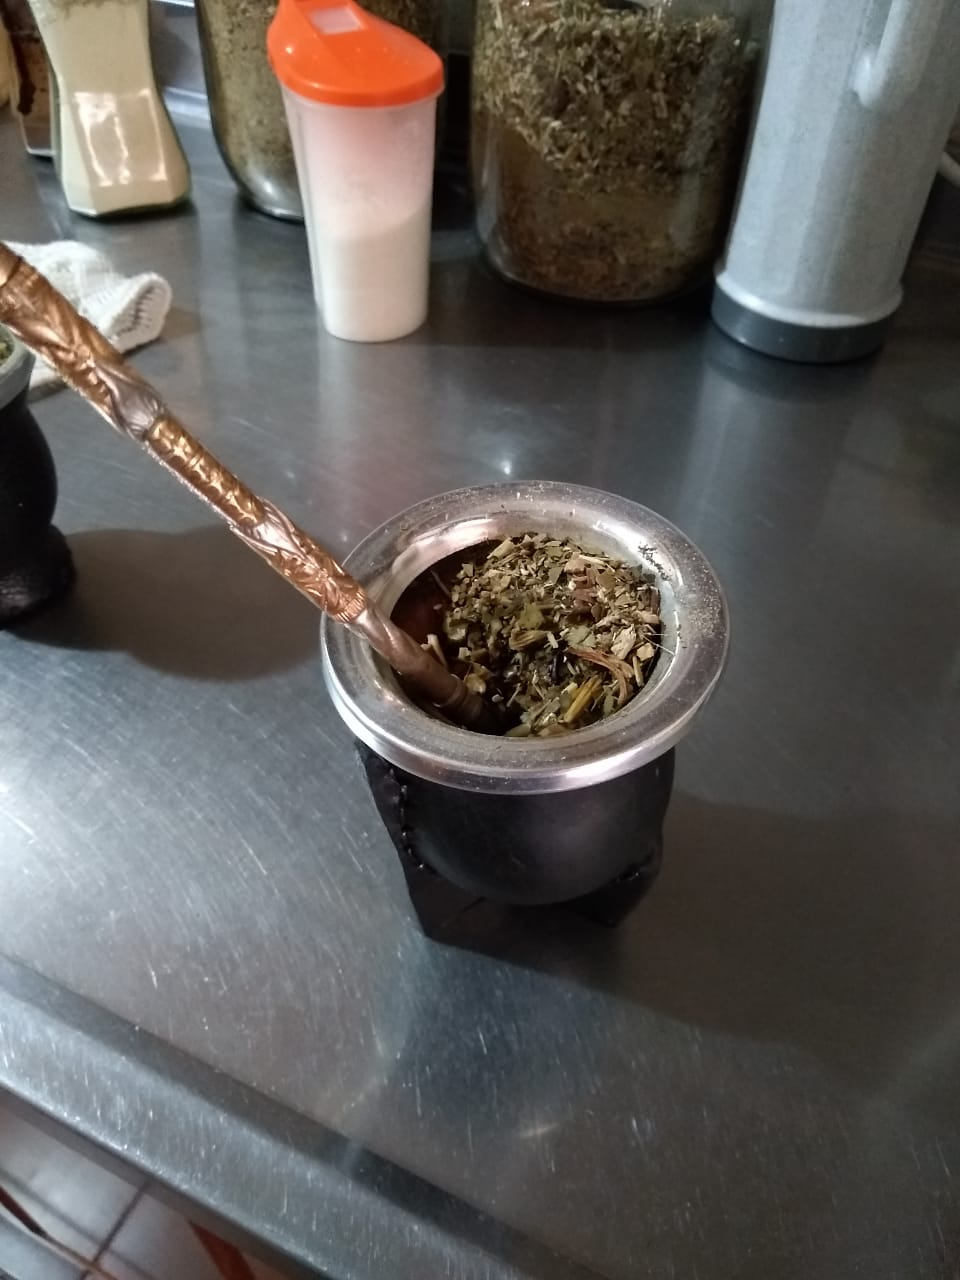madera: (306, 479, 747, 942)
mate: (308, 481, 749, 944)
